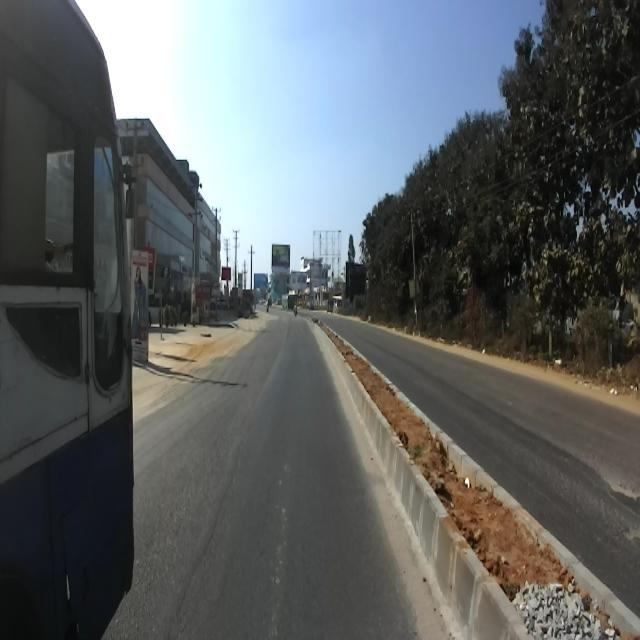bus: (1, 0, 134, 638)
